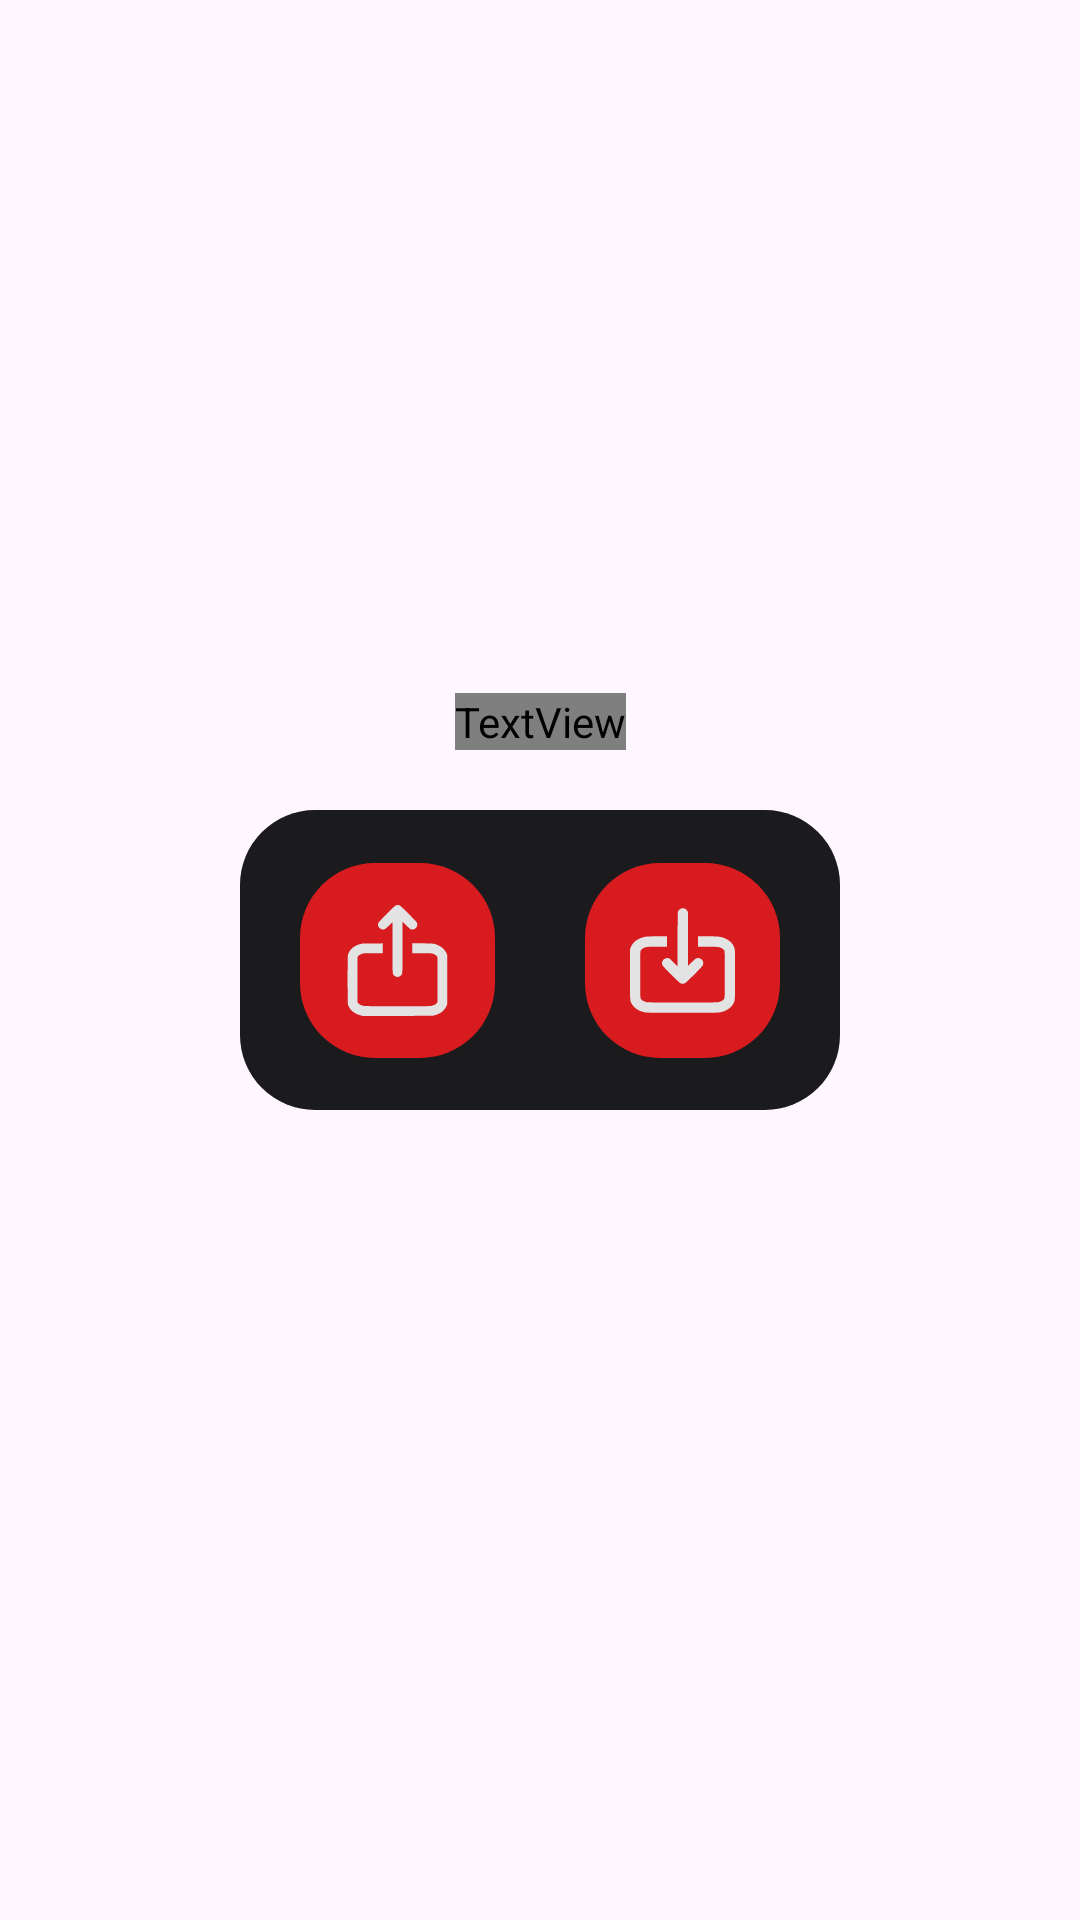

Icons on this 1080*1920 Android screen, each with its box as (x1, y1, x2, y2):
export archive: (347, 905, 448, 1016)
import archive: (630, 908, 735, 1013)
